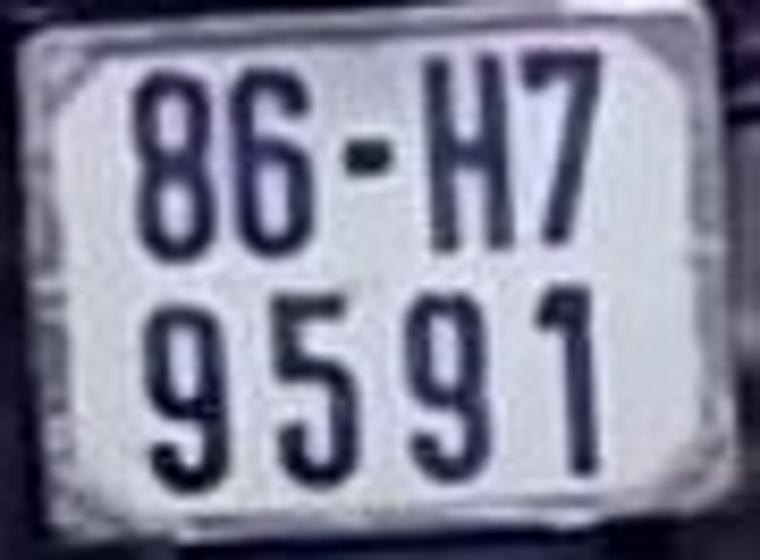-: (342, 136, 398, 176)
1: (531, 280, 606, 478)
5: (268, 289, 366, 499)
6: (227, 66, 316, 255)
7: (519, 51, 610, 242)
8: (132, 70, 221, 261)
9: (142, 297, 243, 500), (406, 281, 497, 485)
H: (416, 52, 520, 252)
